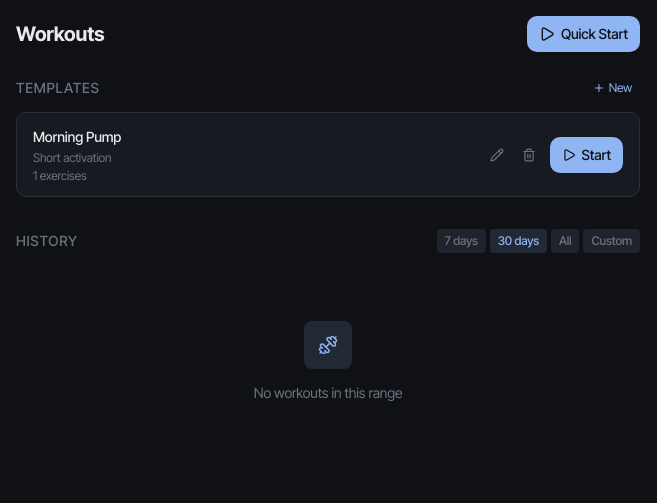
Test: WorkoutDashboard templates › opens the logger only from the explicit Start button
Step 1. Click the button with aria-label "Start Morning Pump" → (586, 155), box [550,137,623,173]
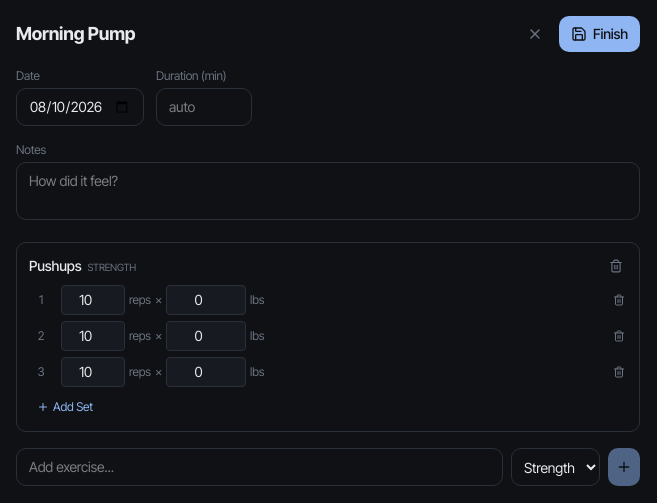
Now the field with placeholder "Add exercise..." is shown, box [16,448,503,486]
